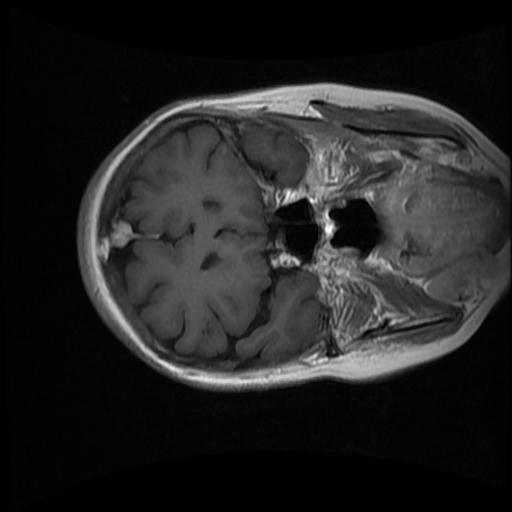meningioma: (110, 220, 132, 249)
